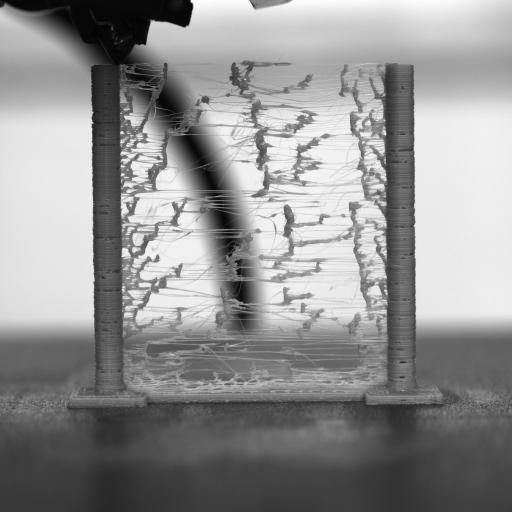spaghetti_and_stringing: (128, 58, 374, 389)
